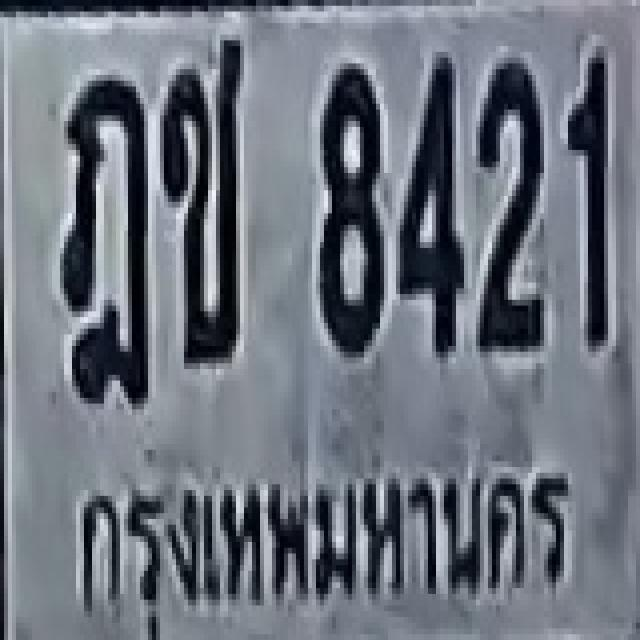1: (562, 55, 606, 343), (564, 55, 608, 320)
2: (476, 63, 544, 346)
4: (396, 52, 460, 352)
8: (318, 58, 382, 352)
A14: (60, 75, 148, 404)
BKK: (55, 450, 585, 636)
